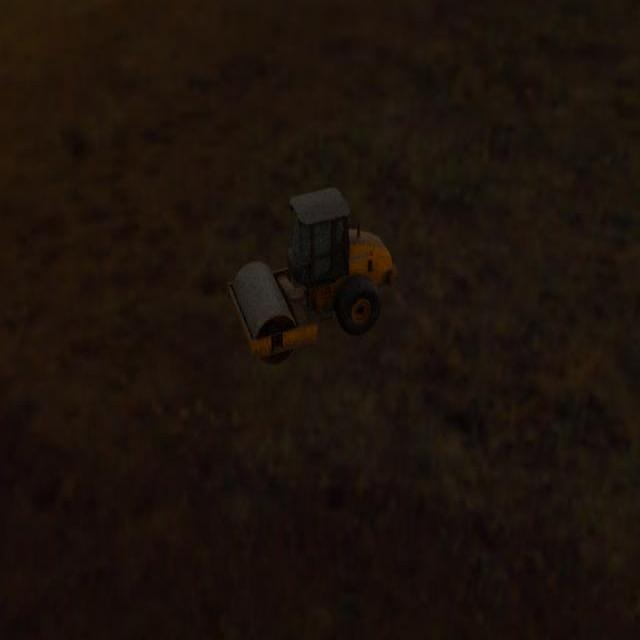Roller: (226, 186, 397, 366)
